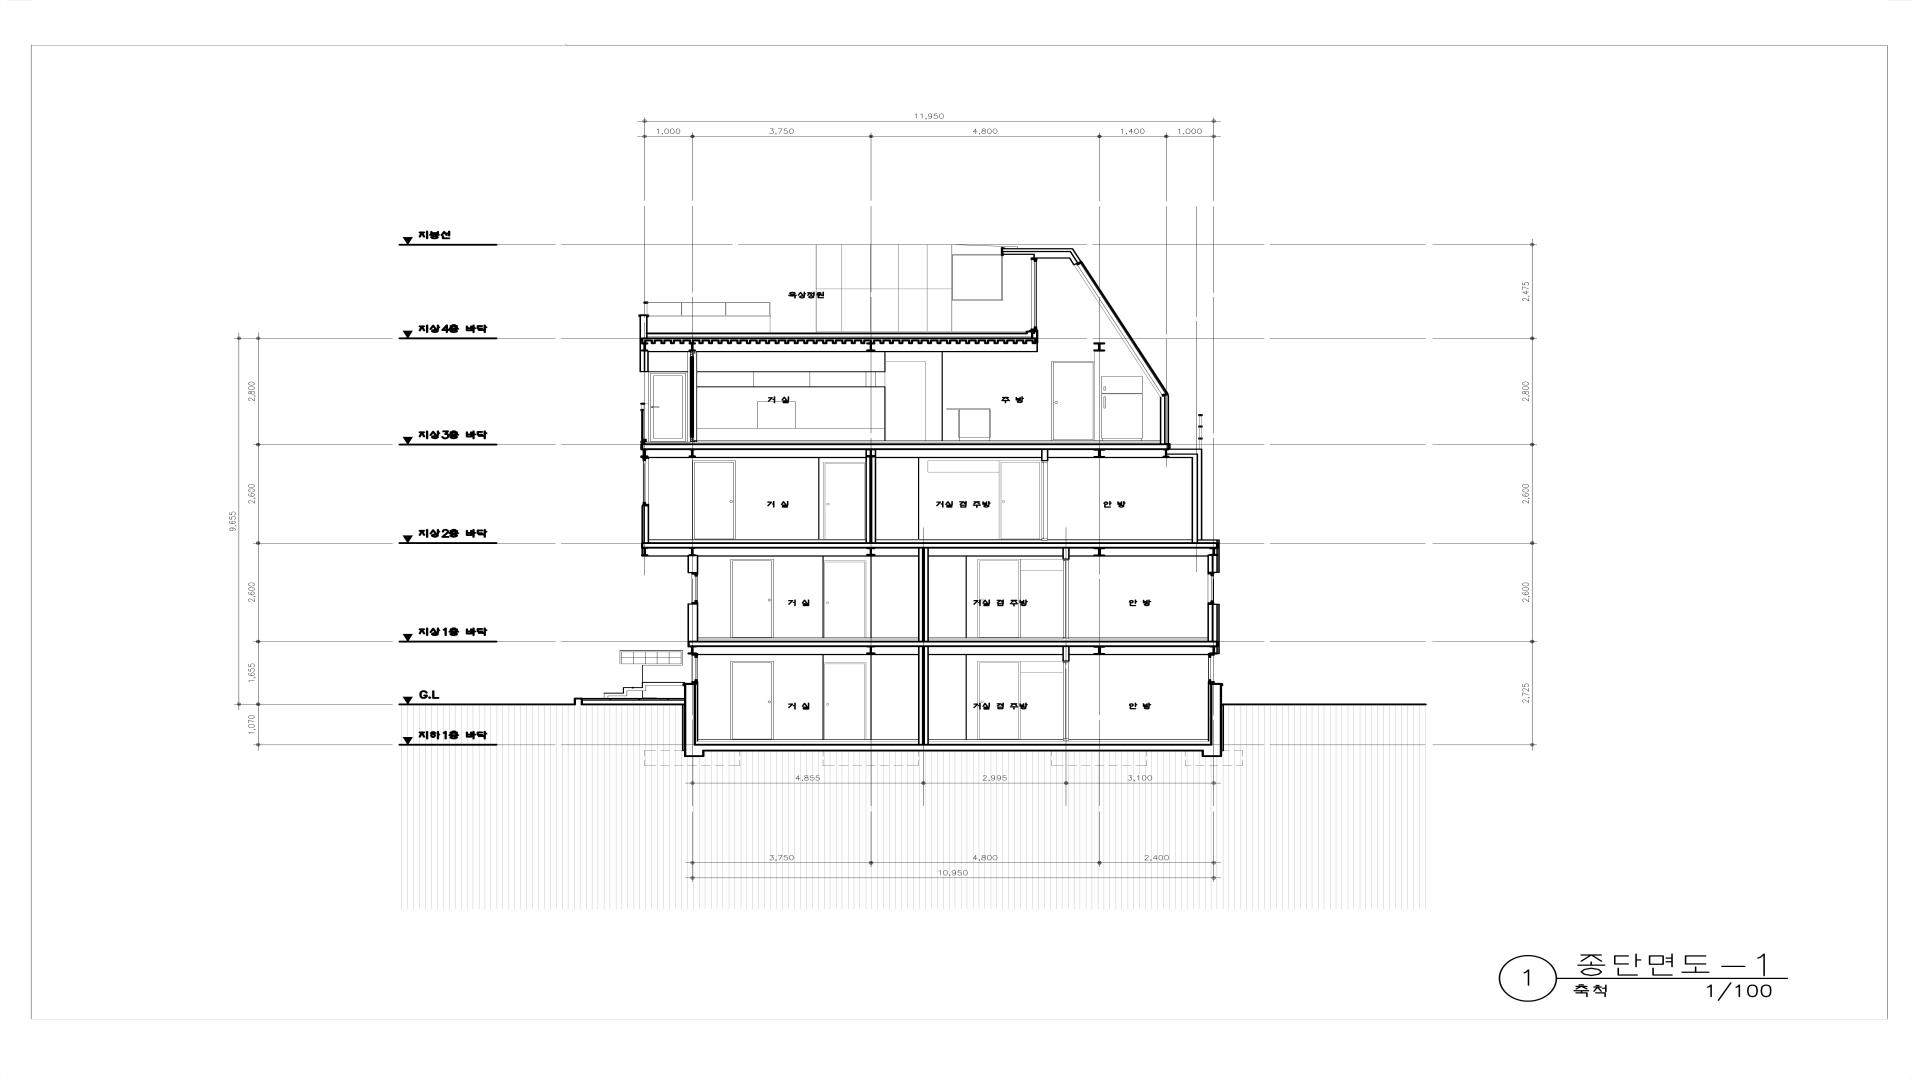door: (692, 460, 736, 539), (977, 559, 1021, 638), (977, 661, 1021, 740), (731, 661, 774, 740), (1051, 361, 1095, 440), (998, 460, 1042, 539), (731, 559, 774, 637), (823, 560, 866, 638), (823, 663, 866, 740), (823, 462, 865, 539), (650, 373, 686, 442), (1063, 559, 1069, 638), (1063, 662, 1069, 741), (1042, 462, 1047, 541)
wall: (684, 683, 1222, 757), (641, 542, 1218, 549), (640, 443, 1171, 450), (687, 641, 1218, 647), (647, 331, 1038, 338), (1002, 248, 1081, 265), (918, 647, 928, 744), (865, 450, 876, 542), (918, 549, 928, 641), (1196, 455, 1203, 539), (687, 604, 699, 641), (641, 505, 649, 542), (1164, 394, 1170, 443), (1166, 448, 1203, 455), (1212, 604, 1218, 641), (687, 555, 699, 574), (640, 314, 647, 338), (640, 338, 645, 372), (1212, 549, 1218, 572), (1063, 647, 1069, 662), (1040, 450, 1048, 462), (1063, 549, 1069, 559), (1212, 647, 1218, 654), (641, 549, 646, 556)
window: (1073, 261, 1168, 398), (687, 351, 698, 442), (1029, 257, 1038, 331), (642, 455, 649, 505), (691, 574, 699, 604), (691, 654, 699, 683), (1208, 572, 1215, 604), (1208, 653, 1215, 683)
